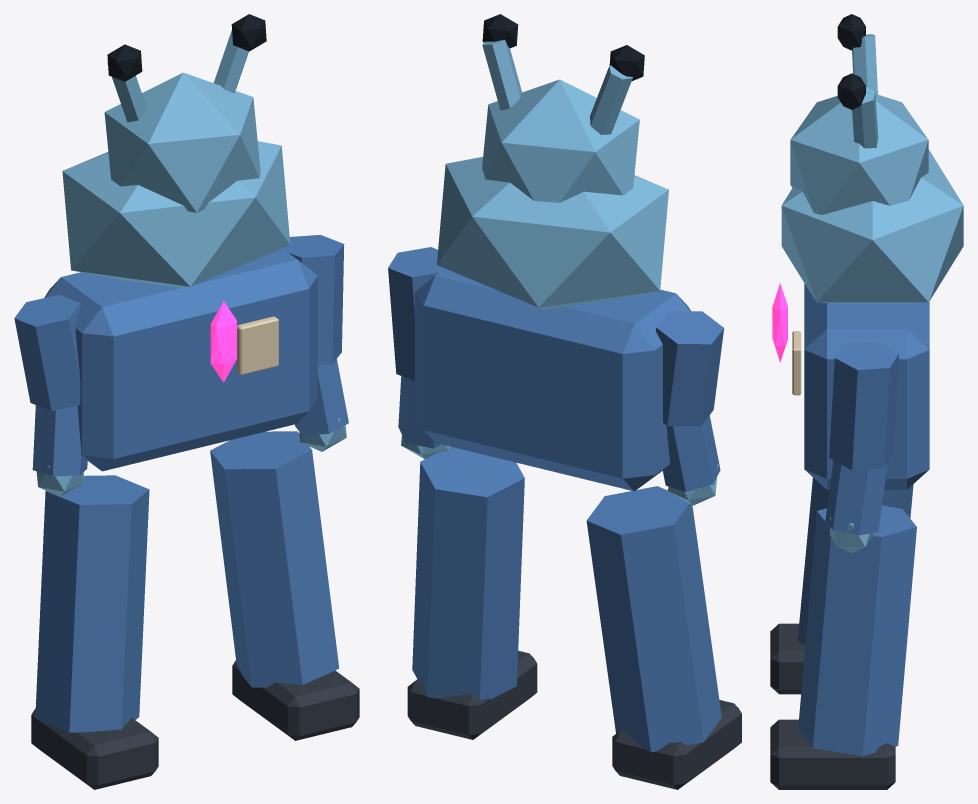
Rendered from npcs_037_seed78877.glb.
3 views of the same model, side by side, from view 1: azimuth 30°, elevation 25°; view 2: azimuth 150°, elevation 25°; view 3: azimuth 270°, elevation 25° (orthographic). The views are drawn at different scales.
Parts seen in each view (by area): view 1: npcs_037_seed78877; view 2: npcs_037_seed78877; view 3: npcs_037_seed78877.
Boxes of the visible parts, <box> form: npcs_037_seed78877: <box>14,14,359,789</box>; npcs_037_seed78877: <box>388,14,741,789</box>; npcs_037_seed78877: <box>770,14,963,789</box>.
Size of the model in its own units: 0.955 by 2.01 by 0.5128.
